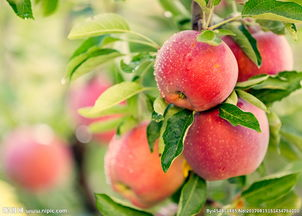obscured(0)_apple: (153, 30, 240, 112)
obscured(1)_apple: (177, 92, 277, 182)
obscured(2)_apple: (101, 117, 194, 213), (221, 20, 296, 95)
